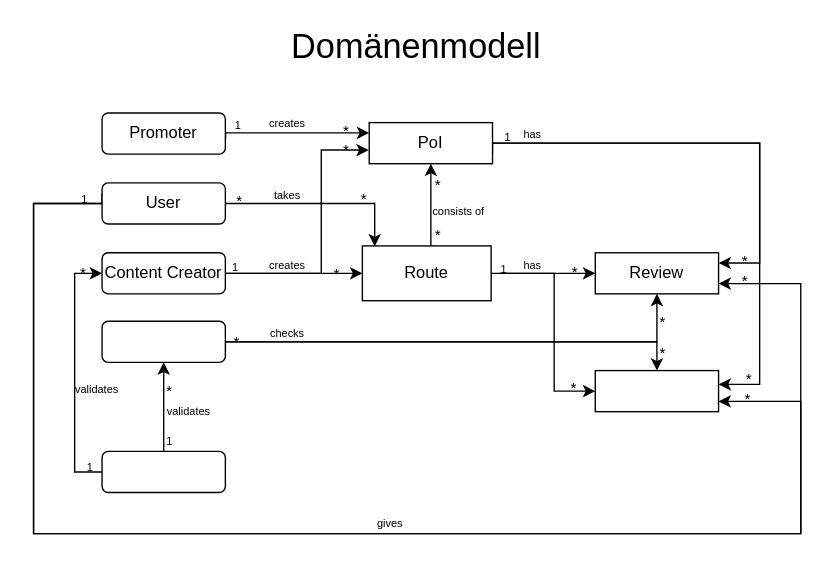
Image size: 836x569. Some labels were removed from this diagram. The centre of each missing label's shape, as x and y in pixels:
Admin: the point at 163,471
Comment: the point at 656,390
Moderator: the point at 163,341
